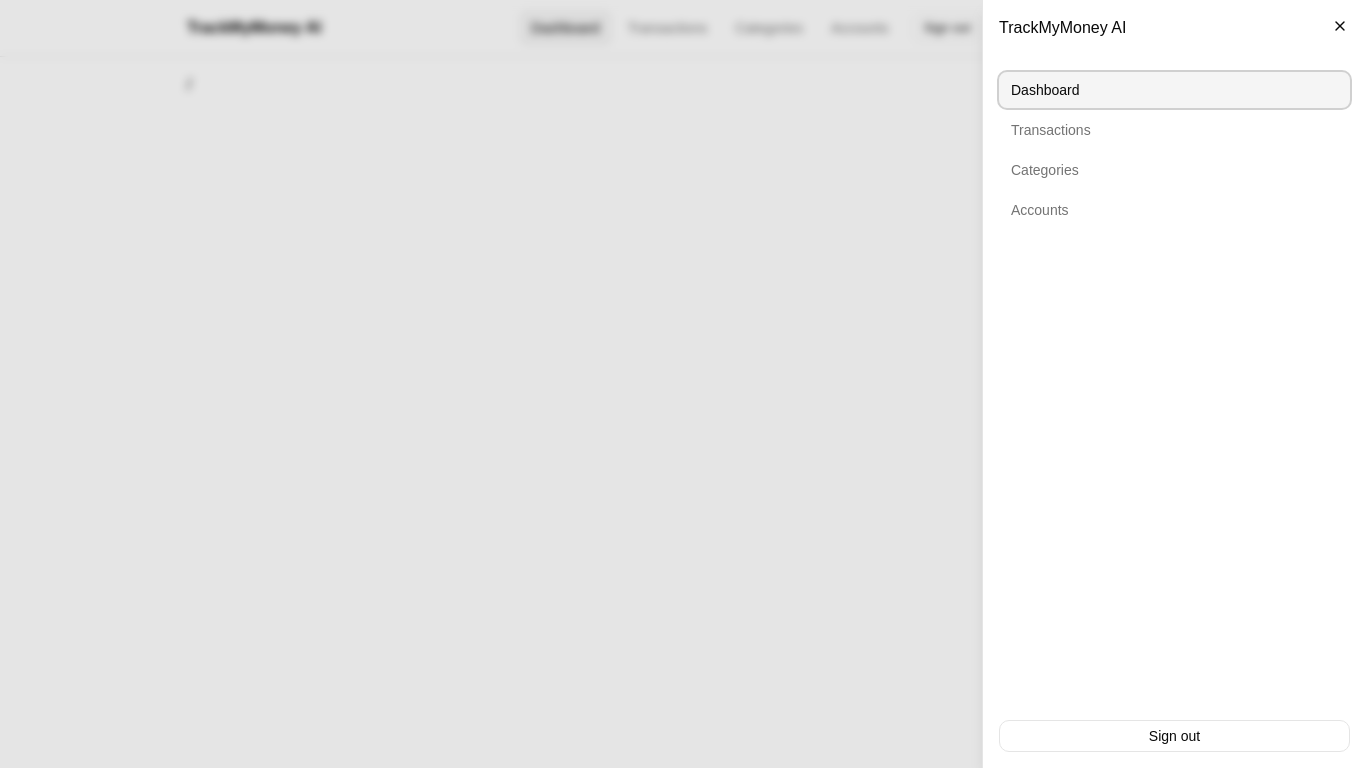
Scenario: RootLayout › calls logout and closes the dialog
Earlier steps of the test are not shown.
Click the button "Sign out" at (1174, 736), box [999,720,1350,752]
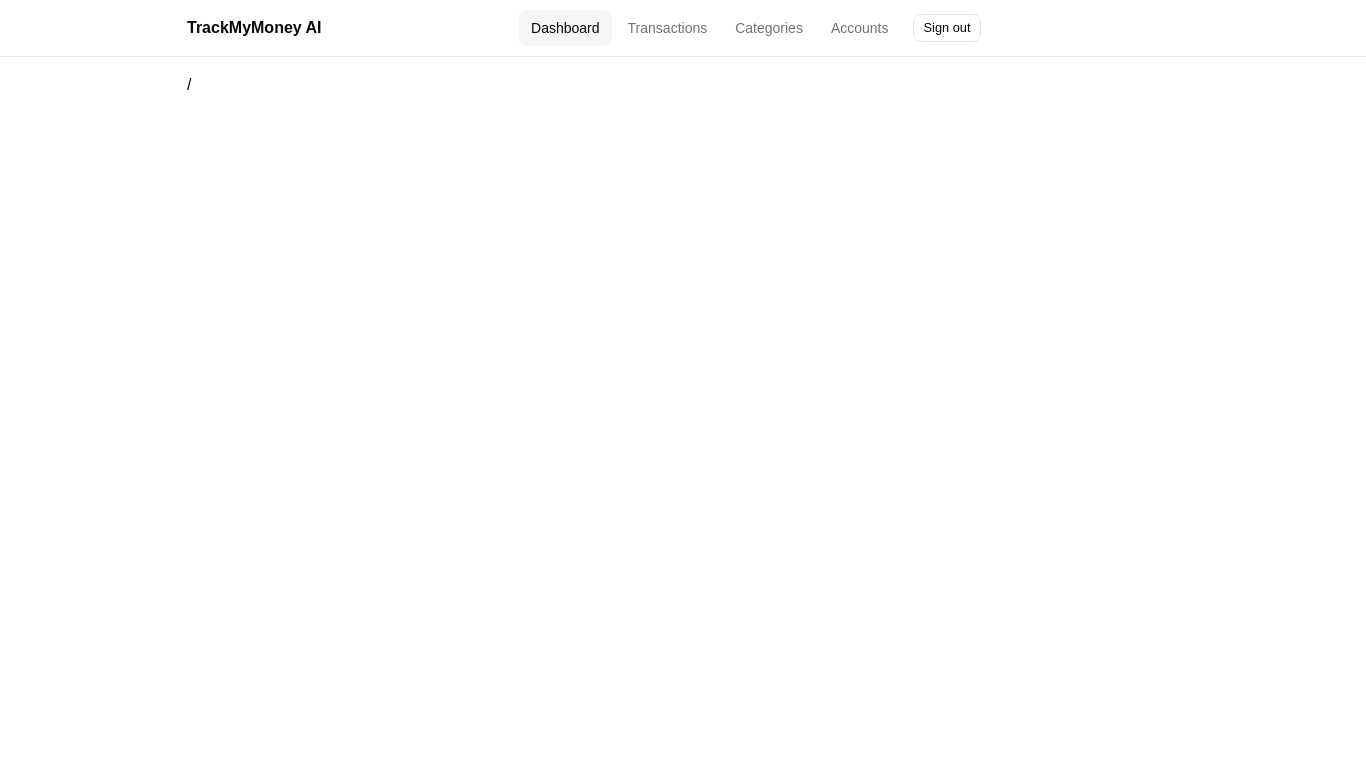
Expected: the dialog is gone
